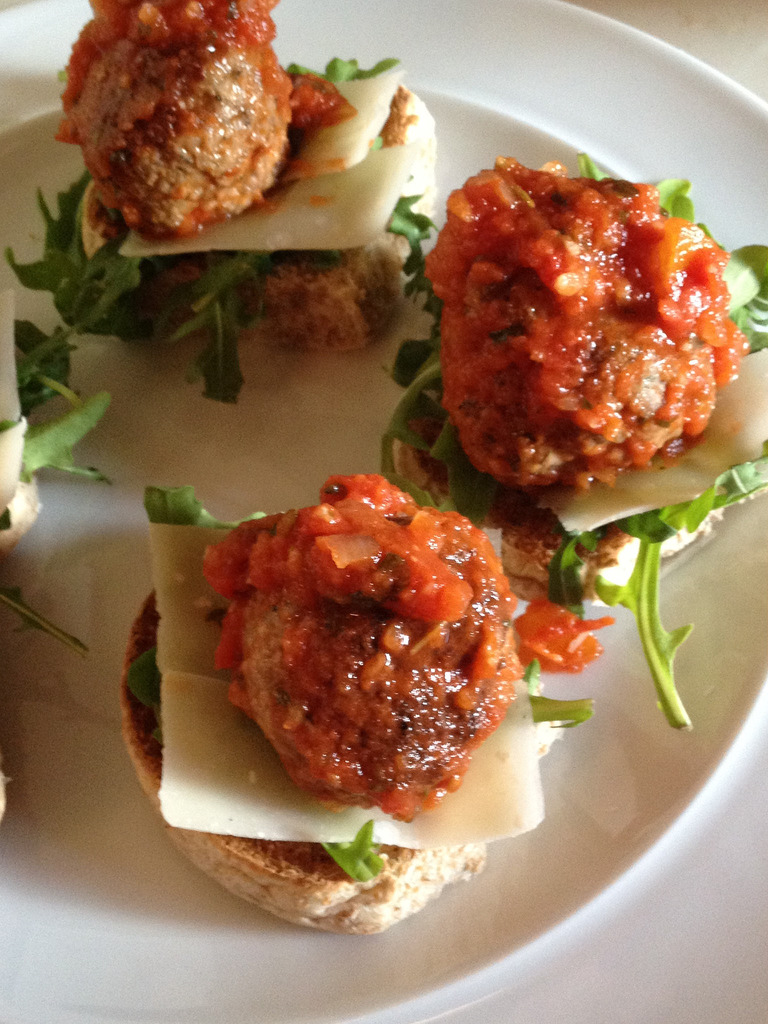chopped lettuce: (37, 195, 131, 470)
meatballs: (460, 184, 720, 476), (240, 512, 504, 787), (80, 34, 292, 223)
slice of bread: (181, 825, 482, 936), (105, 256, 397, 361)
